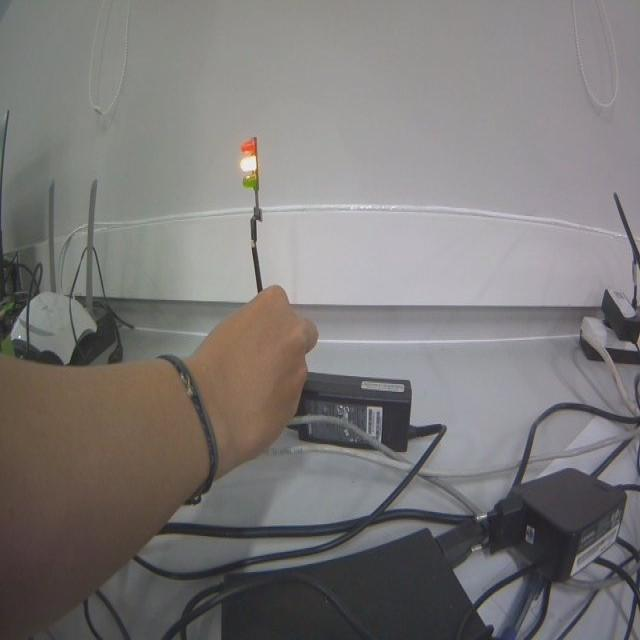Lampu Kuning: (240, 136, 260, 192)
